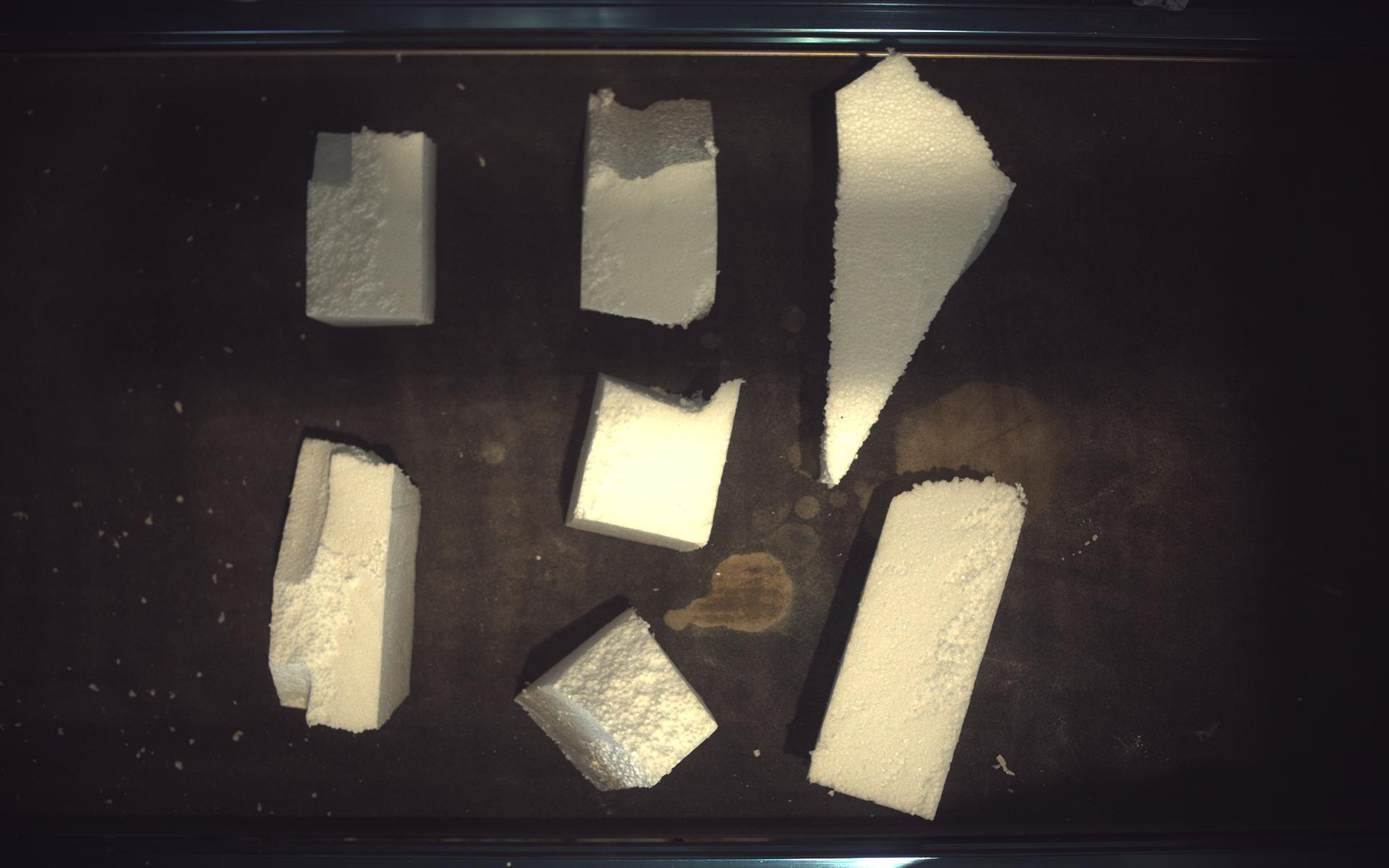foam: (823, 54, 1016, 486), (810, 477, 1027, 821), (268, 438, 420, 733), (517, 610, 718, 792), (582, 88, 718, 326), (566, 374, 744, 552), (305, 127, 436, 326)
